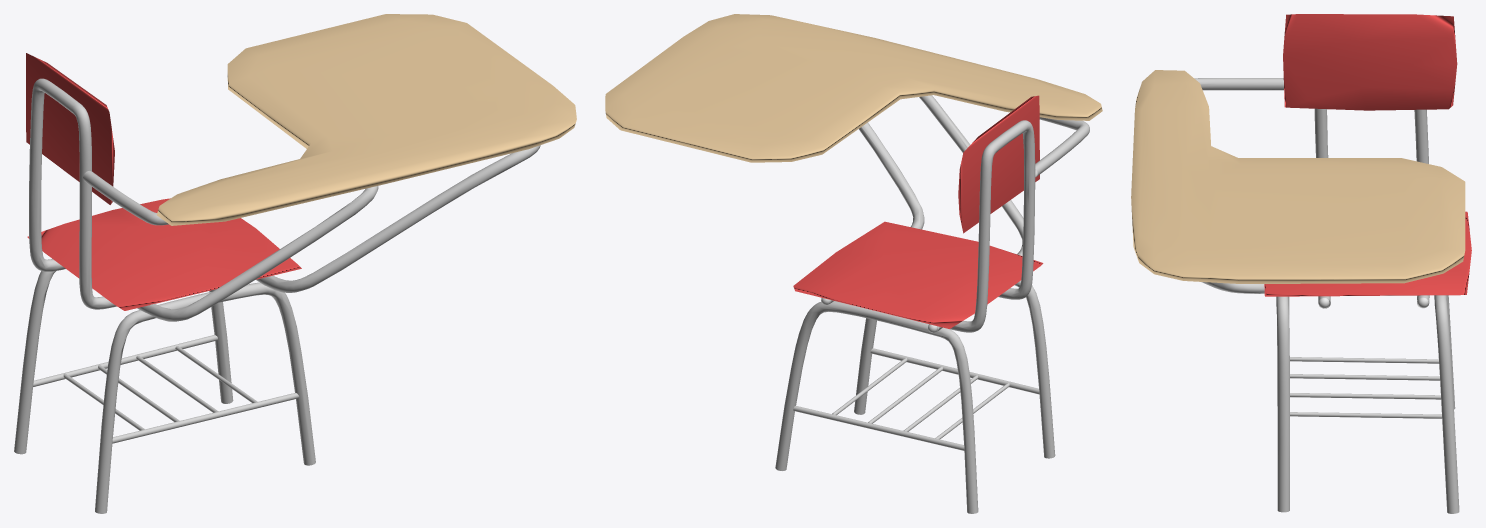
File: studentdeskHighRes.fbx
3 renders of one model, left to right at view 1: azimuth 30°, elevation 25°; view 2: azimuth 150°, elevation 25°; view 3: azimuth 270°, elevation 25°, orthographic. The views are drawn at different scales.
Visible parts, largest first — view 1: Mball_002, Cube, NurbsCurve, NurbsCurve_003, NurbsCurve_004, Cube_001, NurbsCurve_002, NurbsCurve_006, NurbsCurve_001, NurbsCurve_005; view 2: Mball_002, Cube, NurbsCurve_002, NurbsCurve_004, Cube_001, NurbsCurve_003, NurbsCurve, NurbsCurve_005, NurbsCurve_001, NurbsCurve_006; view 3: Mball_002, Cube_001, Cube, NurbsCurve_002, NurbsCurve_003, NurbsCurve_004, NurbsCurve_001, NurbsCurve_012, NurbsCurve_011, NurbsCurve_010, NurbsCurve_009, NurbsCurve.
Boxes of the visible parts, x1,y1,x2,y2 form: Mball_002: (157,14,576,225); Cube: (27,198,301,310); NurbsCurve: (137,145,540,321); NurbsCurve_003: (95,282,315,513); NurbsCurve_004: (29,78,116,309); Cube_001: (26,53,114,204); NurbsCurve_002: (14,258,233,454); NurbsCurve_006: (112,393,299,443); NurbsCurve_001: (83,171,168,225); NurbsCurve_005: (33,335,217,386); Mball_002: (605,14,1102,162); Cube: (793,221,1043,328); NurbsCurve_002: (775,301,978,513); NurbsCurve_004: (950,120,1035,332); Cube_001: (958,95,1039,233); NurbsCurve_003: (854,280,1055,458); NurbsCurve: (830,95,1023,331); NurbsCurve_005: (793,406,964,450); NurbsCurve_001: (1035,117,1089,177); NurbsCurve_006: (870,348,1039,394); Mball_002: (1131,70,1465,283); Cube_001: (1283,14,1457,110); Cube: (1264,211,1471,296); NurbsCurve_002: (1434,295,1459,513); NurbsCurve_003: (1276,296,1289,512); NurbsCurve_004: (1314,108,1429,308); NurbsCurve_001: (1194,78,1283,90); NurbsCurve_012: (1290,412,1441,418); NurbsCurve_011: (1290,393,1440,399); NurbsCurve_010: (1290,374,1439,380); NurbsCurve_009: (1290,357,1438,363); NurbsCurve: (1201,282,1264,293).
Size of the model in its own units: 5.69 by 5.02 by 3.86.
